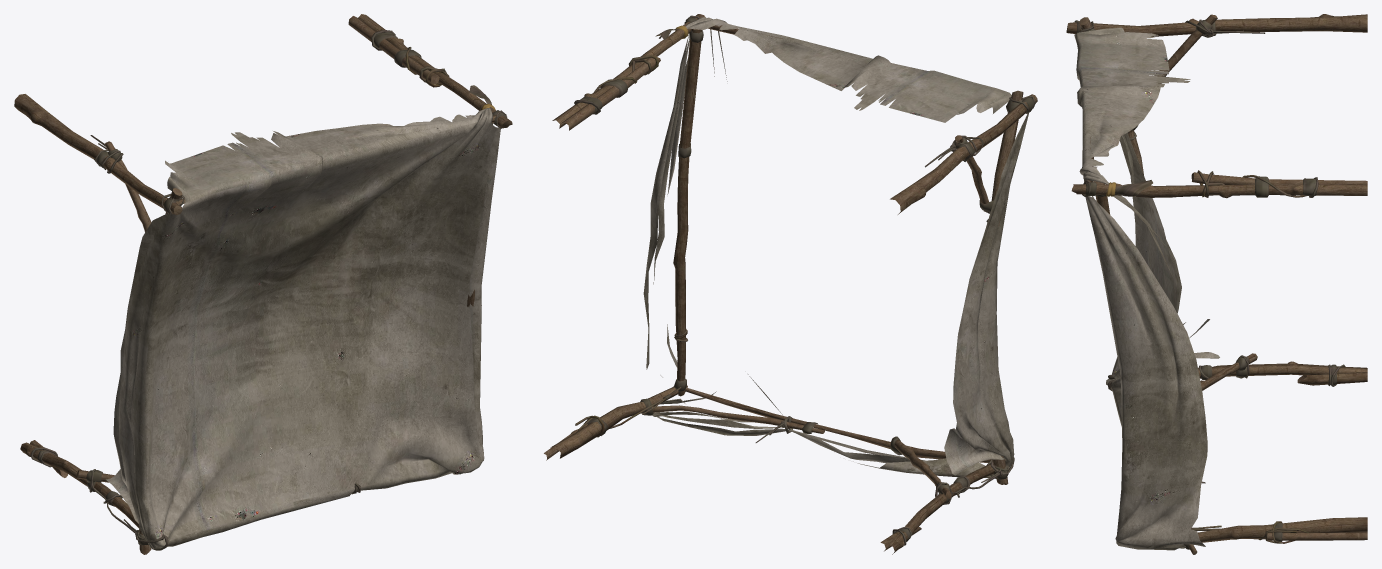
The model's file is GEN_PRO_Tarp_01A_LOD0-transformed.glb.
The picture shows the model from 3 angles, left to right: view 1: azimuth 30°, elevation 25°; view 2: azimuth 150°, elevation 25°; view 3: azimuth 270°, elevation 25°; orthographic projection.
Parts seen in each view (by area): view 1: GEN_PRO_Tarp_01A_LOD0; view 2: GEN_PRO_Tarp_01A_LOD0; view 3: GEN_PRO_Tarp_01A_LOD0.
Boxes of the visible parts, bbox=[...] form: GEN_PRO_Tarp_01A_LOD0: bbox=[14, 14, 512, 554]; GEN_PRO_Tarp_01A_LOD0: bbox=[544, 14, 1037, 554]; GEN_PRO_Tarp_01A_LOD0: bbox=[1066, 14, 1367, 554].
Bounding box in the file's own units: 0.0684 × 0.0676 × 0.0481.
Materials: 3 (3 with a texture image).
